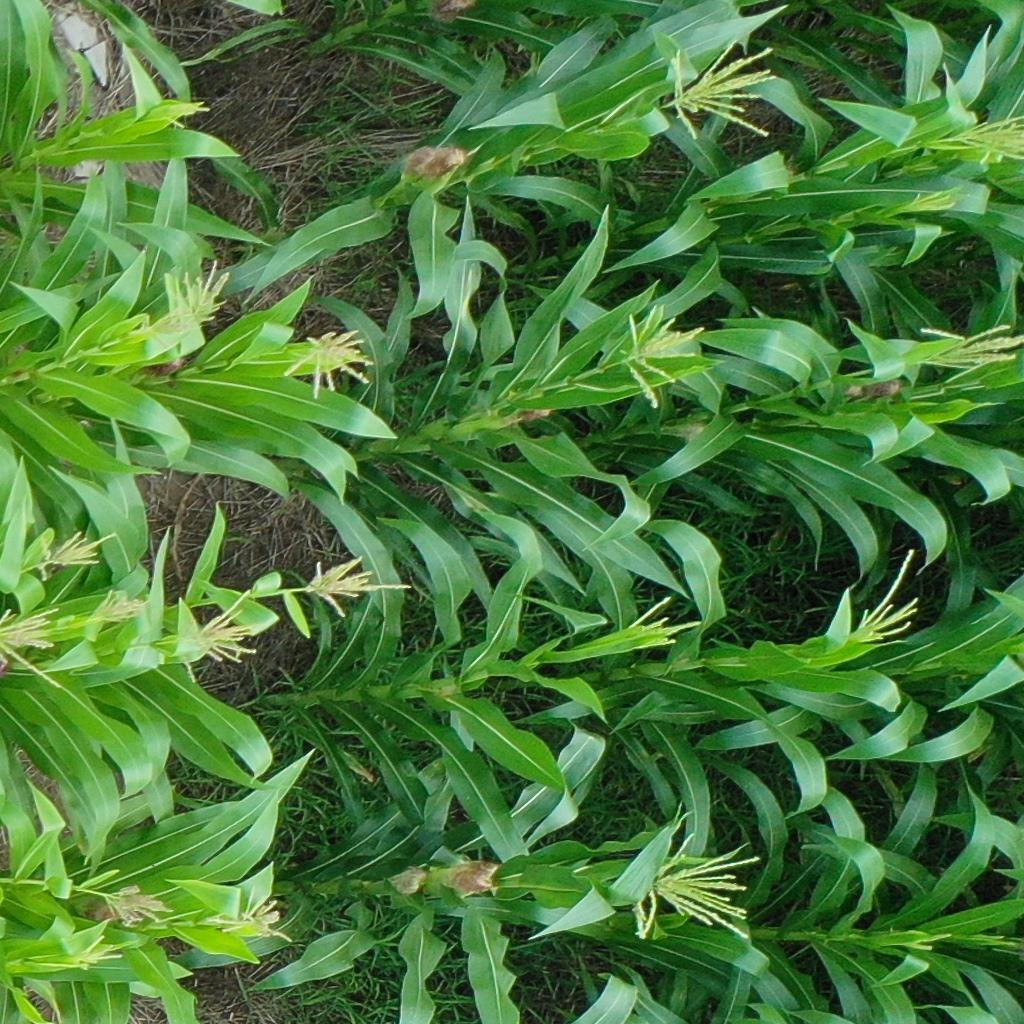Tassel: (628, 832, 767, 944), (662, 41, 785, 142), (616, 303, 709, 412), (166, 588, 266, 689), (847, 546, 926, 648), (278, 324, 372, 403), (154, 257, 235, 342), (303, 558, 412, 618), (913, 323, 1024, 380), (1, 606, 75, 691), (205, 888, 301, 948), (619, 592, 704, 656), (23, 529, 113, 587), (942, 110, 1024, 167), (106, 880, 172, 929), (56, 935, 127, 976), (90, 586, 156, 630), (141, 100, 212, 136), (891, 188, 960, 224), (899, 924, 952, 956)
